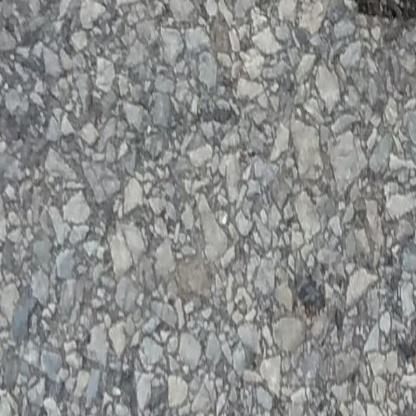Cracks: (340, 0, 416, 54)
